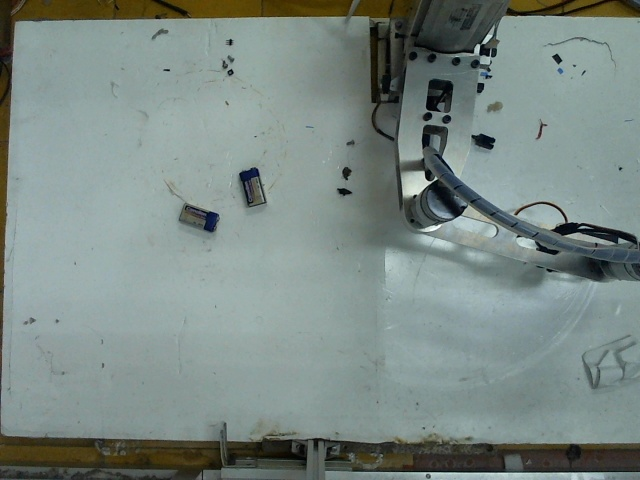battery: (175, 197, 219, 232), (236, 163, 268, 207)
